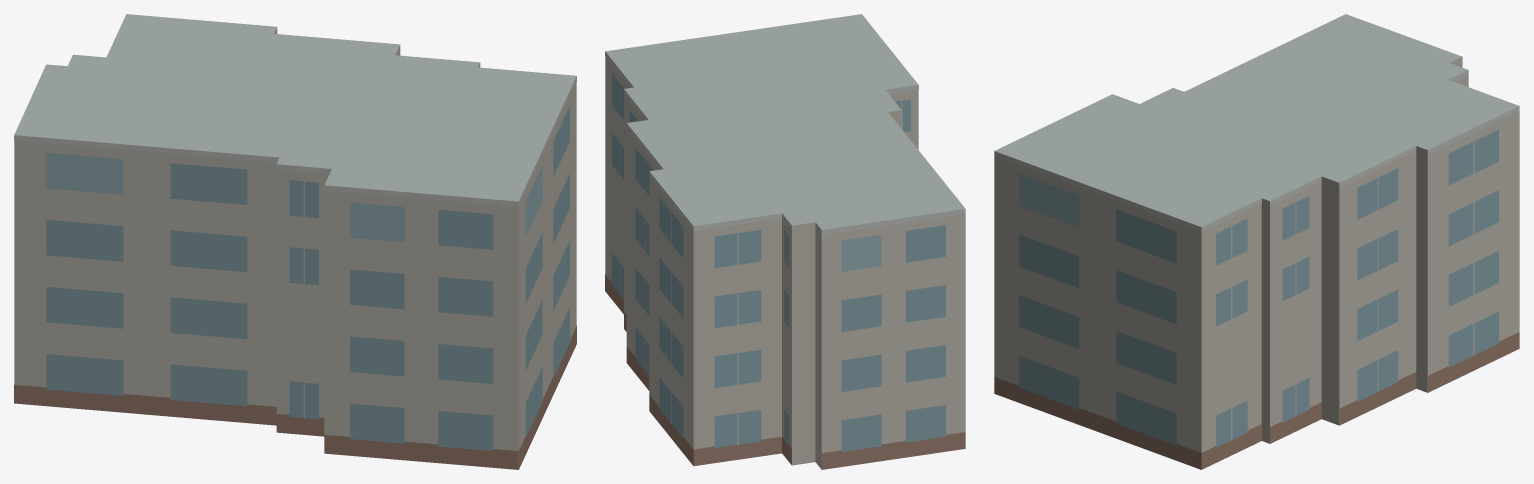
File: survey-upis-32461689.glb
3 renders of one model, left to right at view 1: azimuth 30°, elevation 25°; view 2: azimuth 150°, elevation 25°; view 3: azimuth 270°, elevation 25°, orthographic. The views are drawn at different scales.
Visible parts, largest first — view 1: survey-upis-32461689.tmp; view 2: survey-upis-32461689.tmp; view 3: survey-upis-32461689.tmp.
Boxes of the visible parts, x1=… form: survey-upis-32461689.tmp: x1=14, y1=14, x2=576, y2=469; survey-upis-32461689.tmp: x1=605, y1=14, x2=965, y2=469; survey-upis-32461689.tmp: x1=994, y1=14, x2=1519, y2=469.
Bounding box in the file's own units: 22.03 × 11.69 × 22.93.
